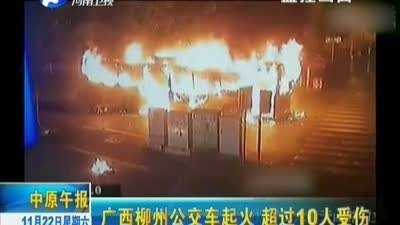fire: (80, 33, 301, 110)
